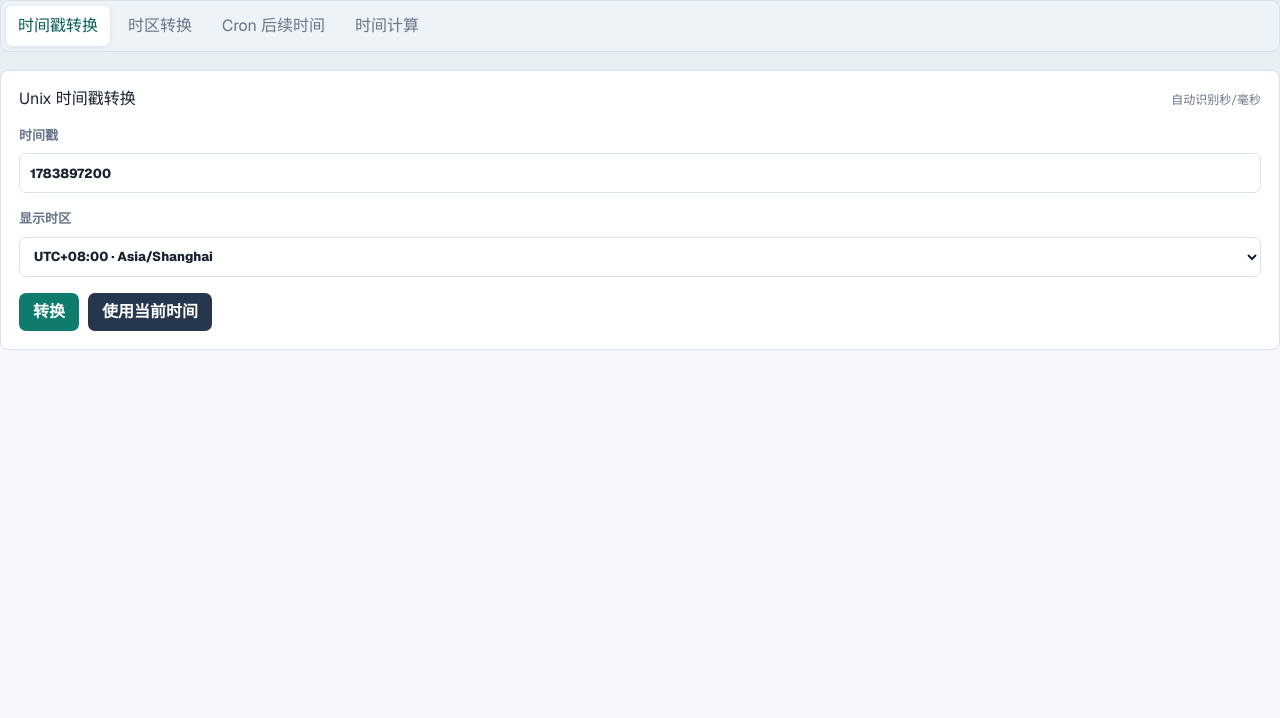
Scenario: workbench keyboard and theme interactions › calculates cron runs in the selected time zone
Step 1. Click the tab "Cron 后续时间" → (273, 26), box [210,6,337,46]
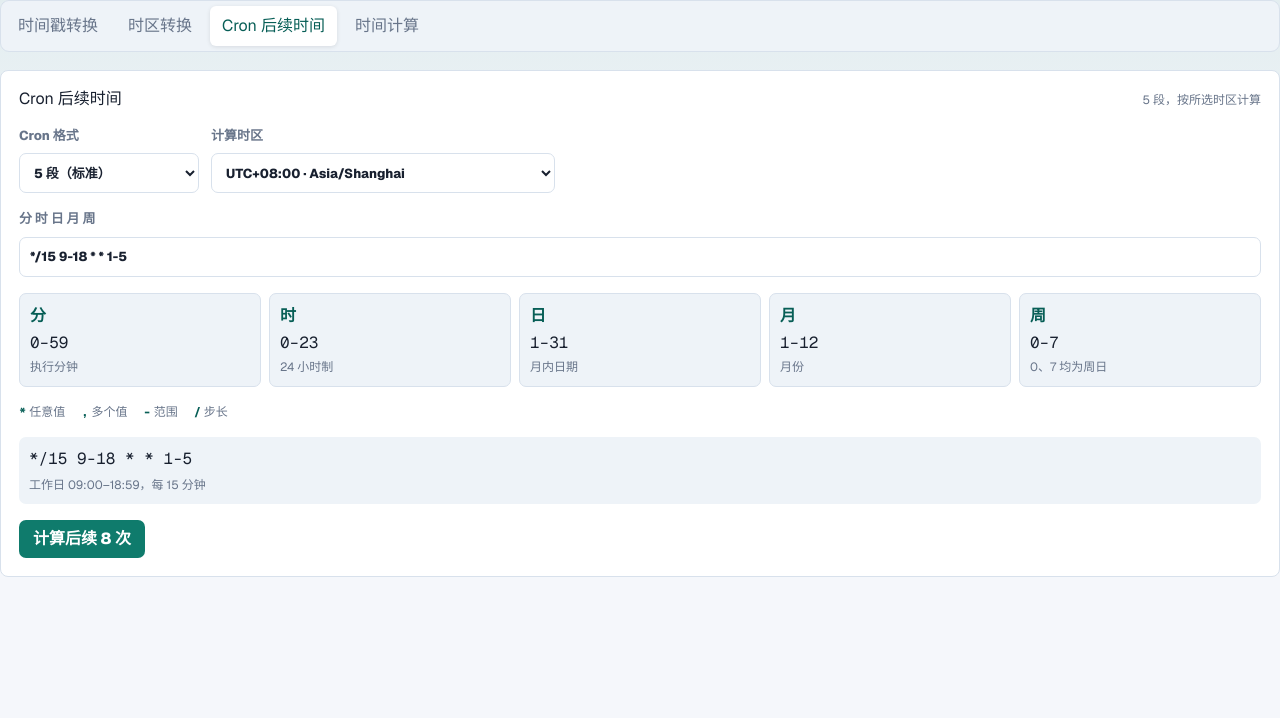
Step 2. Replace the text in the field labelled "分 时 日 月 周" with "0 9 * * 1-5" → (640, 257), box [19,237,1261,277]
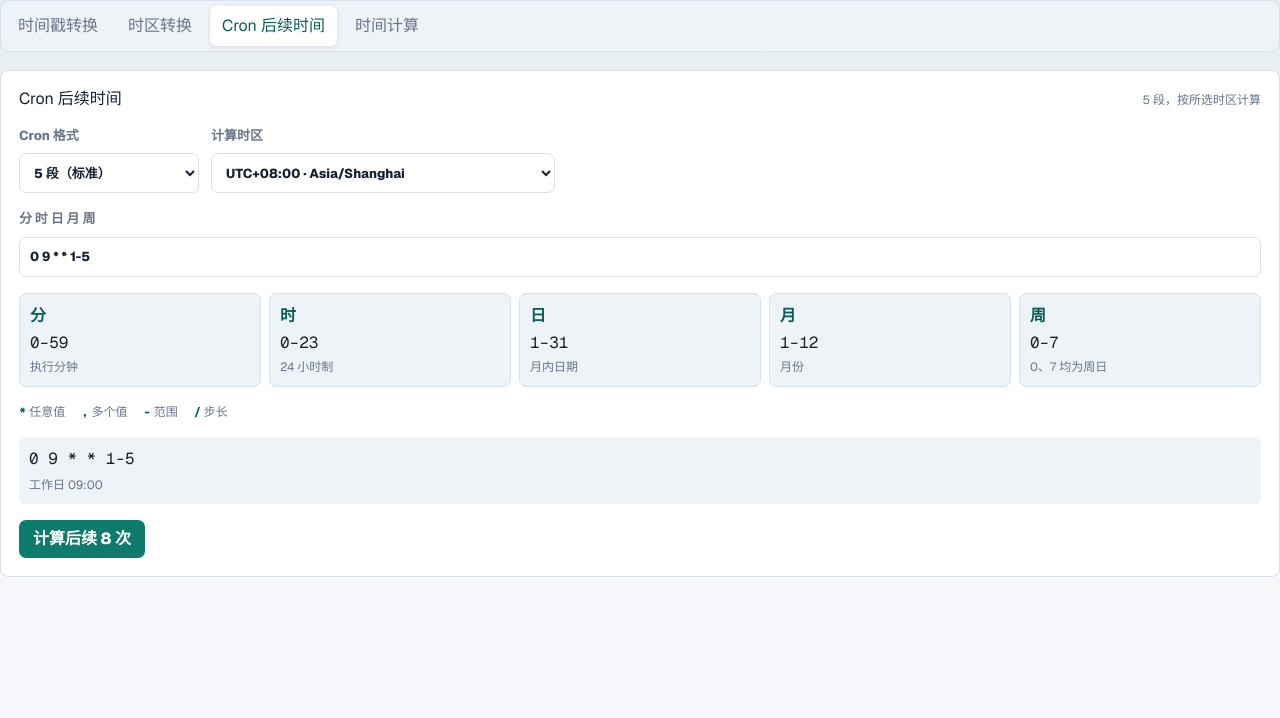
Step 3. Select "UTC+09:00 · Asia/Tokyo" in the dropdown labelled "计算时区" → (383, 173), box [211,153,555,193]
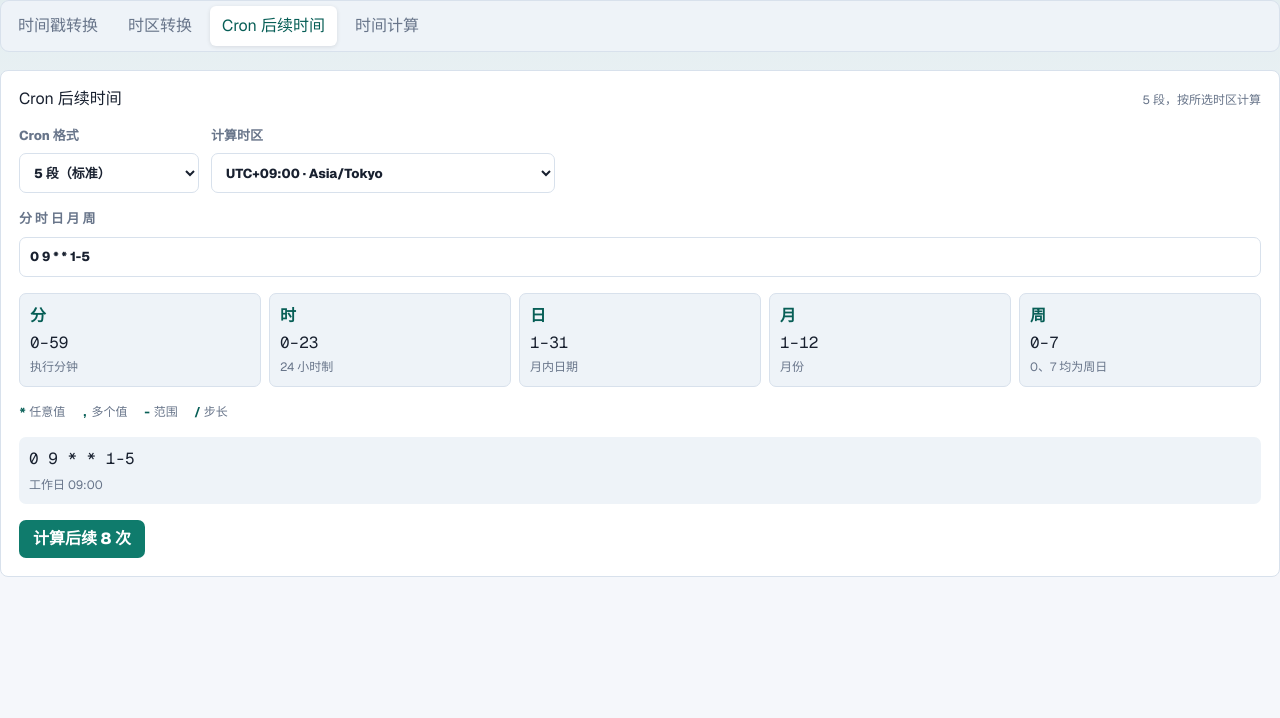
Step 4. Click the button "计算后续 8 次" → (82, 539), box [19,520,145,558]
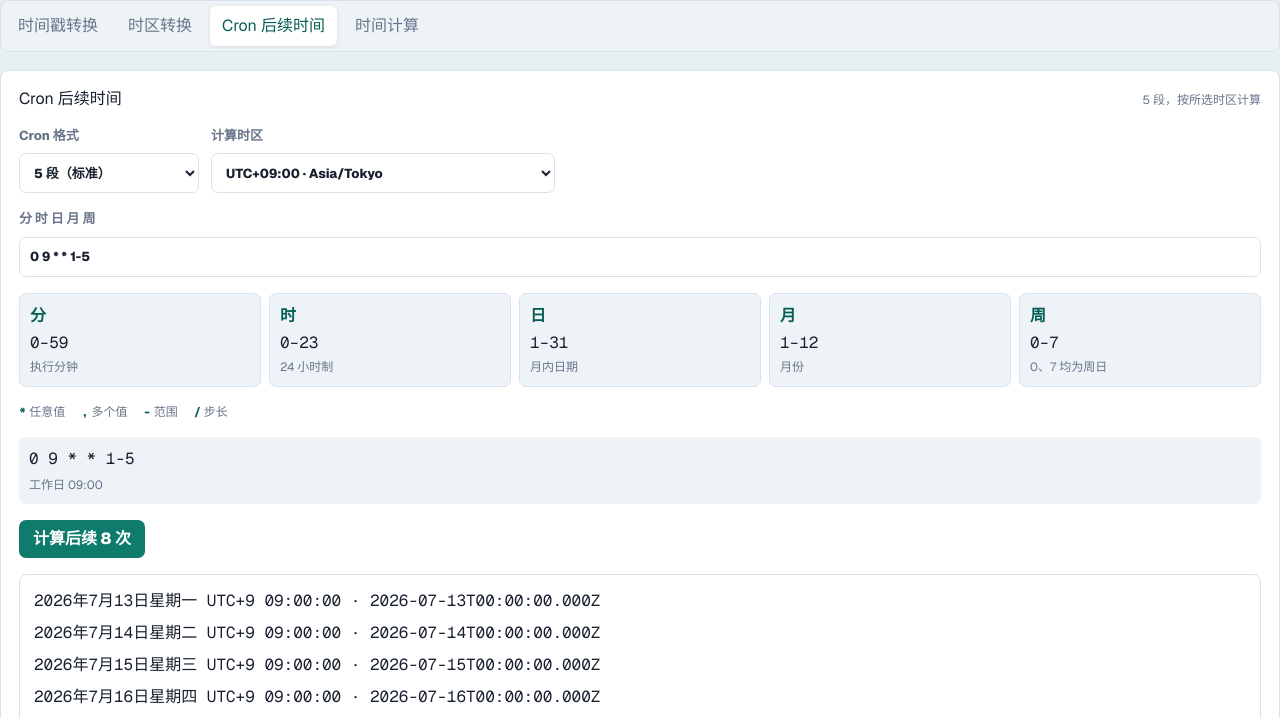
Check: the text "UTC+9" is shown 8 times
Check: the text "2026-07-13T00:00:00.000Z" is shown, box [370,590,600,611]
